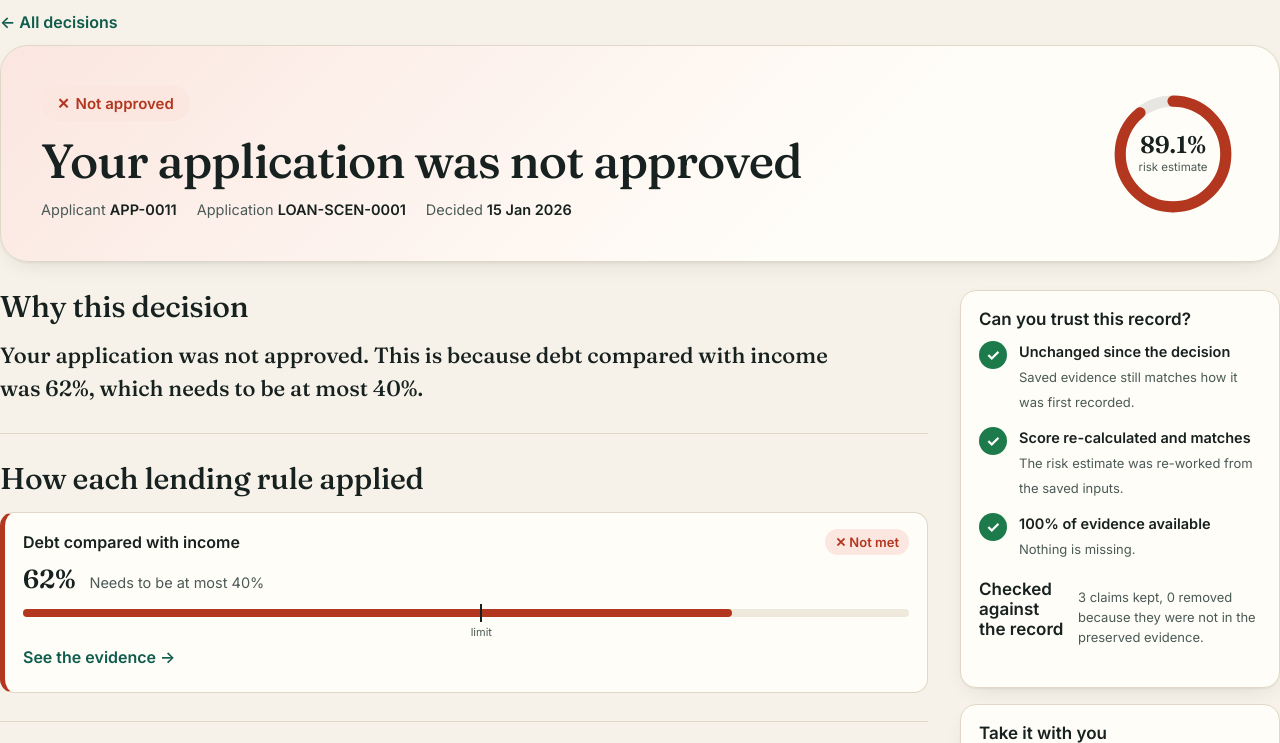
Test case: DecisionTrace customer experience › citation chips open and scroll to the matching evidence
What coordinates should you click on to do the following:
click the button with test id "rule-citation-chip-rule:dti_limit"
I would click on:
 (99, 658)
Its box is [23, 640, 175, 676].
(page scrolled)
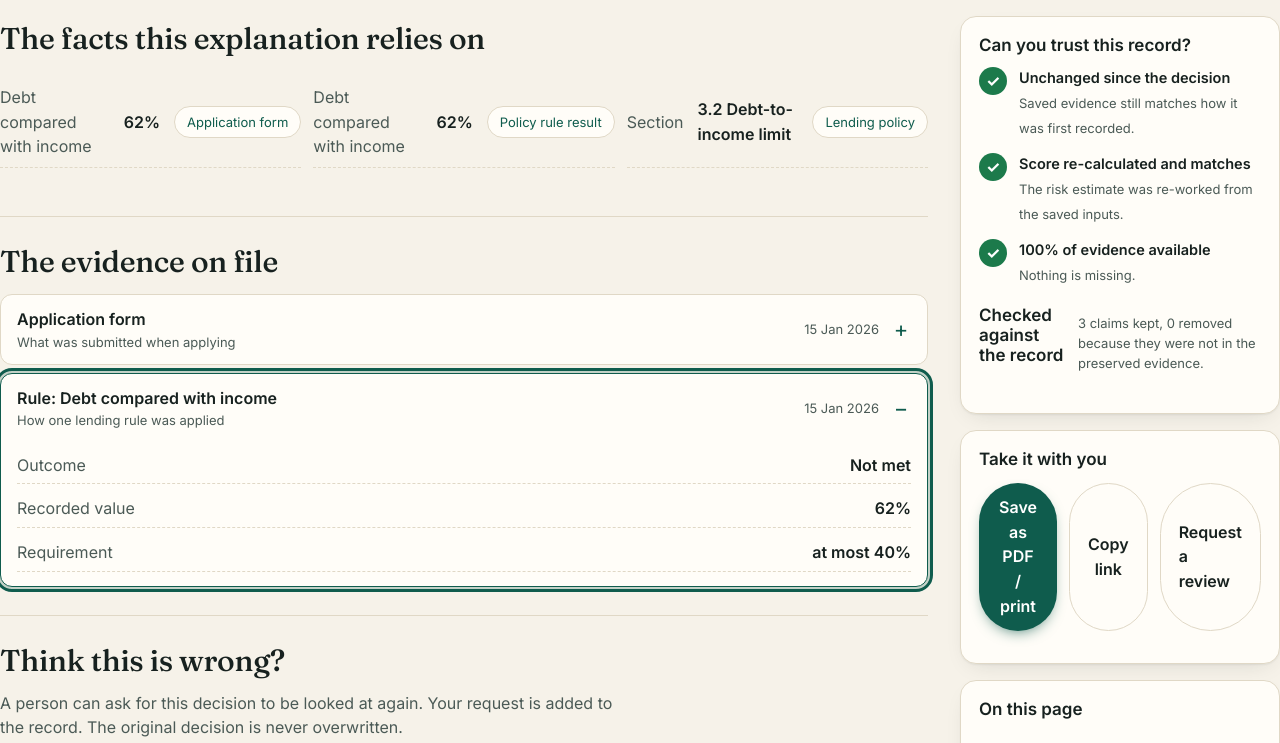
Result: the button that starts with "Rule: Debt compared with income" is expanded at [1, 374, 927, 443]
